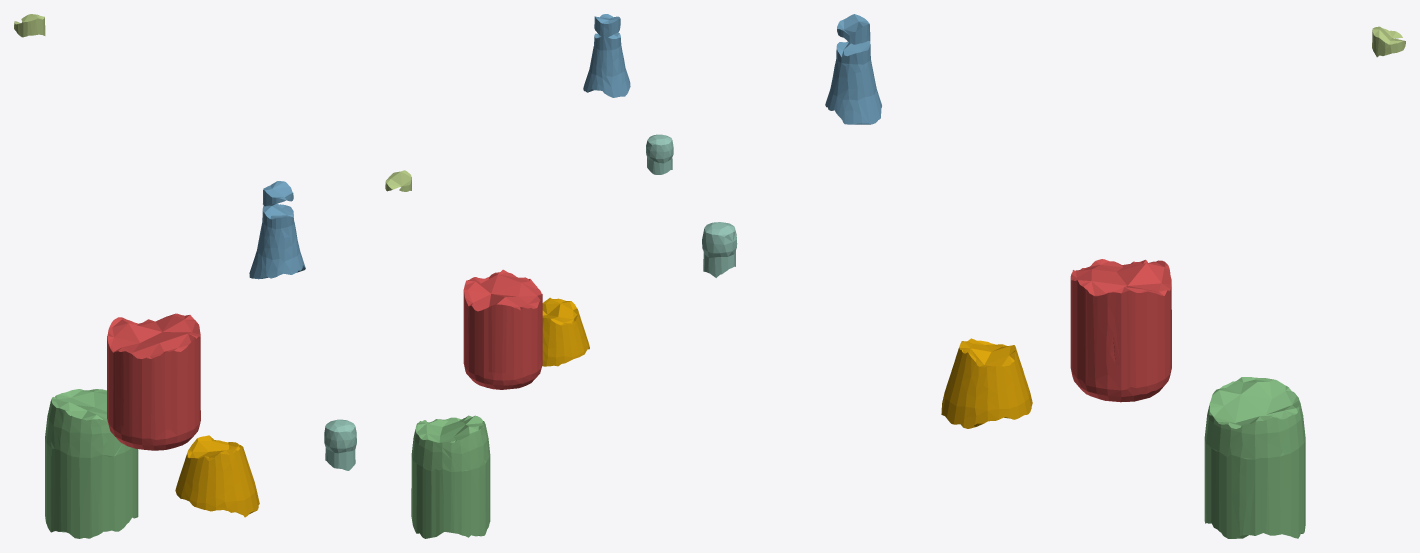
Rendered from fractured_70_6pcs_transformed.glb.
3 renders of one model, left to right at view 1: azimuth 30°, elevation 25°; view 2: azimuth 150°, elevation 25°; view 3: azimuth 270°, elevation 25°, orthographic. The views are drawn at different scales.
Parts seen in each view (by area): view 1: piece_1.obj, piece_3.obj, piece_0.obj, piece_2.obj, piece_4.obj, piece_5.obj; view 2: piece_3.obj, piece_1.obj, piece_2.obj, piece_0.obj, piece_4.obj, piece_5.obj; view 3: piece_3.obj, piece_1.obj, piece_0.obj, piece_2.obj, piece_4.obj.
Part boxes in pixels (x1,y1,x2,y2): piece_1.obj: (107, 313, 200, 450); piece_3.obj: (45, 389, 138, 538); piece_0.obj: (175, 435, 259, 517); piece_2.obj: (249, 181, 305, 279); piece_4.obj: (324, 419, 356, 470); piece_5.obj: (14, 14, 45, 37); piece_3.obj: (411, 415, 490, 538); piece_1.obj: (463, 269, 542, 389); piece_2.obj: (583, 14, 630, 97); piece_0.obj: (542, 297, 589, 366); piece_4.obj: (646, 134, 673, 174); piece_5.obj: (385, 170, 411, 191); piece_3.obj: (1204, 377, 1305, 538); piece_1.obj: (1070, 259, 1171, 402); piece_0.obj: (941, 338, 1032, 428); piece_2.obj: (825, 14, 881, 124); piece_4.obj: (702, 222, 737, 277).
Size of the model in its own units: 0.2268 by 1.26 by 1.58.
